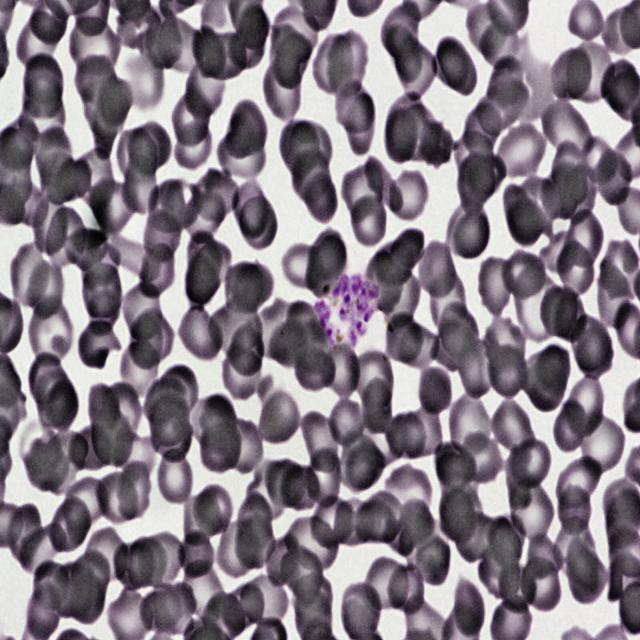red blood cell: (46, 551, 104, 625), (518, 342, 571, 414), (474, 74, 532, 135), (554, 375, 603, 447), (516, 268, 564, 340), (566, 310, 614, 381), (540, 96, 593, 160), (389, 92, 438, 161), (304, 227, 349, 302), (493, 119, 546, 182), (506, 475, 554, 543), (68, 13, 122, 73), (388, 499, 440, 561), (568, 41, 616, 105), (414, 238, 460, 304), (539, 282, 587, 345), (454, 428, 506, 486), (183, 558, 228, 625), (432, 34, 479, 98), (45, 492, 92, 556), (516, 549, 562, 614), (28, 298, 74, 363), (42, 429, 88, 494), (547, 43, 595, 105), (576, 415, 624, 477), (394, 36, 439, 102), (404, 529, 454, 588), (177, 302, 225, 363), (378, 466, 434, 518), (448, 393, 493, 457), (208, 296, 262, 349), (131, 307, 175, 372), (253, 299, 299, 361), (14, 11, 64, 68), (81, 262, 124, 328), (326, 30, 369, 96), (186, 243, 231, 306), (296, 406, 340, 470), (285, 515, 338, 568), (256, 385, 302, 446), (70, 147, 114, 210), (183, 60, 226, 124), (240, 574, 290, 629), (215, 130, 270, 180), (22, 437, 69, 495), (87, 182, 134, 240), (194, 396, 239, 456), (382, 167, 430, 223), (592, 145, 634, 209), (246, 461, 290, 522), (262, 53, 302, 120), (466, 2, 512, 60), (158, 17, 203, 76), (542, 164, 590, 219), (18, 92, 66, 147), (281, 240, 328, 296), (364, 554, 411, 610), (221, 345, 268, 401), (225, 96, 266, 160), (216, 521, 262, 578), (81, 78, 126, 136), (280, 546, 322, 608), (18, 522, 68, 574), (428, 319, 476, 373), (108, 234, 162, 282), (118, 53, 163, 110), (477, 254, 517, 318), (567, 540, 607, 604), (140, 530, 184, 588), (147, 178, 195, 231), (4, 498, 43, 563), (142, 5, 182, 68), (343, 161, 385, 221), (491, 403, 534, 461), (194, 169, 241, 222), (314, 31, 354, 93), (117, 127, 158, 187), (126, 120, 172, 173), (309, 495, 355, 548), (90, 412, 132, 470), (272, 8, 317, 62), (287, 122, 331, 177), (484, 317, 528, 372), (341, 579, 382, 638), (77, 316, 120, 372), (46, 205, 88, 262), (597, 262, 632, 330), (439, 478, 476, 542), (147, 394, 190, 449), (10, 246, 50, 305), (366, 153, 404, 215), (556, 458, 604, 507), (26, 264, 68, 320), (280, 117, 319, 177), (346, 437, 387, 494), (64, 478, 107, 532), (564, 210, 604, 268), (554, 518, 594, 576), (381, 270, 421, 328), (236, 513, 274, 574), (364, 253, 402, 314), (102, 382, 141, 441), (501, 248, 545, 300), (440, 304, 480, 361), (600, 240, 638, 300), (88, 527, 128, 584), (382, 270, 422, 327), (401, 407, 444, 460), (226, 418, 263, 479), (455, 339, 496, 394), (264, 320, 309, 370), (152, 412, 196, 463), (430, 269, 464, 335), (144, 381, 188, 432), (292, 144, 330, 203), (38, 152, 78, 208), (171, 91, 211, 147), (120, 342, 160, 398), (454, 130, 494, 186), (221, 259, 263, 312), (137, 243, 176, 300), (23, 50, 64, 104), (141, 210, 182, 264), (96, 472, 137, 526), (320, 347, 361, 401), (240, 194, 278, 252), (274, 32, 312, 90), (156, 451, 196, 506), (488, 343, 528, 398), (508, 438, 552, 488), (382, 1, 422, 56), (31, 128, 75, 178), (222, 582, 266, 632), (503, 196, 545, 248), (123, 282, 162, 338), (434, 441, 476, 493), (232, 260, 274, 312), (31, 559, 72, 612), (236, 494, 274, 551), (355, 352, 395, 406), (336, 79, 376, 133), (1, 180, 46, 228), (75, 243, 123, 288), (202, 30, 245, 80), (518, 177, 560, 228), (200, 421, 241, 473), (328, 395, 366, 451), (28, 352, 68, 405), (345, 91, 378, 155), (478, 552, 522, 600), (138, 585, 181, 634), (462, 102, 501, 156), (182, 192, 224, 242), (307, 448, 342, 508), (193, 483, 234, 534), (385, 24, 422, 80), (229, 322, 266, 378), (372, 240, 418, 285), (354, 498, 398, 545), (74, 56, 118, 103), (488, 515, 527, 568), (526, 531, 568, 580), (558, 240, 594, 297), (550, 140, 588, 194), (35, 370, 73, 424), (358, 379, 394, 436), (159, 366, 200, 416), (351, 195, 388, 250), (457, 154, 492, 212), (121, 164, 160, 216), (485, 55, 523, 108), (111, 541, 152, 590), (34, 193, 68, 252), (132, 535, 168, 590), (390, 224, 426, 279), (184, 494, 222, 546), (292, 574, 334, 621), (45, 379, 79, 437), (116, 462, 150, 520), (480, 22, 521, 70), (296, 344, 336, 393), (384, 106, 416, 167), (174, 120, 213, 170), (599, 61, 638, 111), (386, 561, 424, 612), (266, 459, 304, 510), (399, 326, 442, 371), (282, 463, 322, 511), (383, 314, 421, 364), (70, 424, 111, 470), (458, 516, 498, 563), (417, 365, 453, 417), (190, 24, 226, 76), (498, 561, 534, 613), (452, 578, 484, 636), (64, 228, 110, 268), (233, 182, 267, 236), (386, 411, 425, 458), (175, 532, 213, 580), (600, 9, 638, 57), (336, 499, 374, 547), (264, 535, 299, 587), (453, 211, 490, 260), (302, 172, 338, 222), (288, 298, 324, 348), (468, 155, 506, 202), (557, 486, 592, 536), (498, 563, 536, 608), (582, 134, 616, 184), (100, 76, 134, 126), (87, 384, 121, 434), (421, 117, 454, 168), (542, 231, 580, 274), (236, 5, 272, 49), (229, 26, 264, 69), (59, 158, 92, 200)
schizont: (314, 273, 384, 348)
